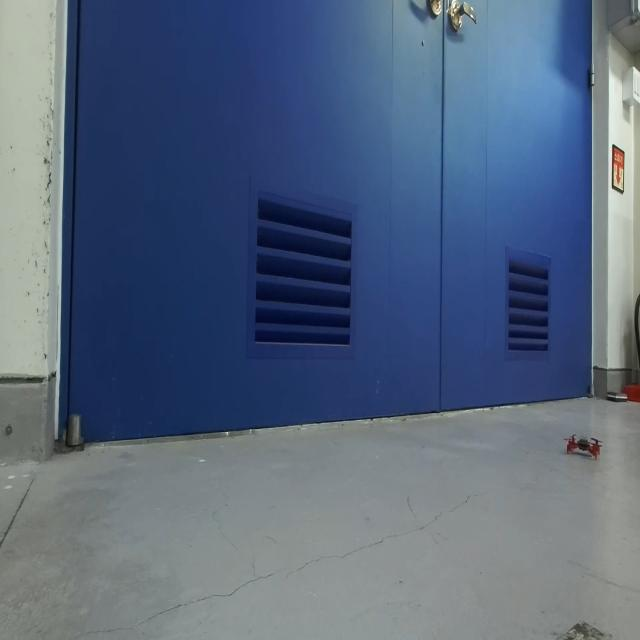crazyflie: (563, 427, 604, 464)
